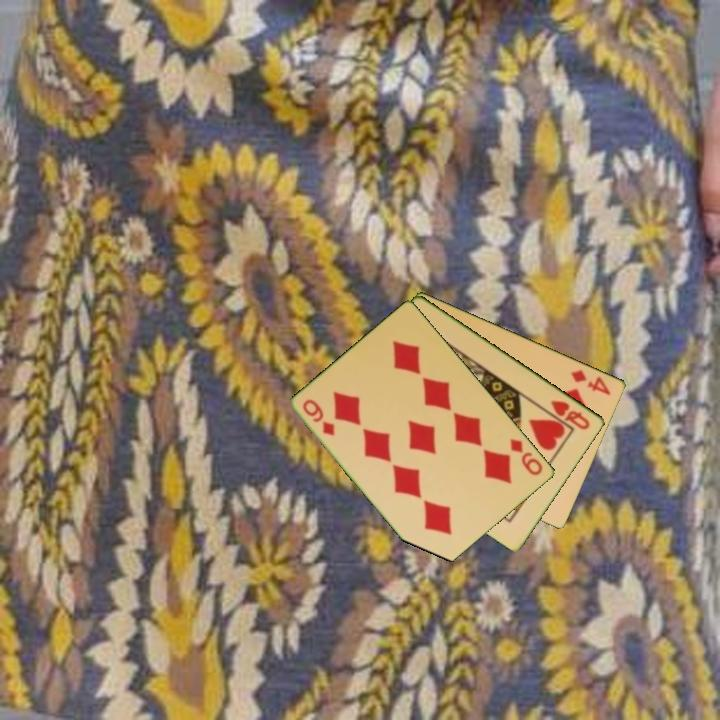4d: (568, 366, 614, 398)
9d: (506, 435, 546, 478), (299, 395, 338, 439)
Qh: (548, 396, 593, 433)
